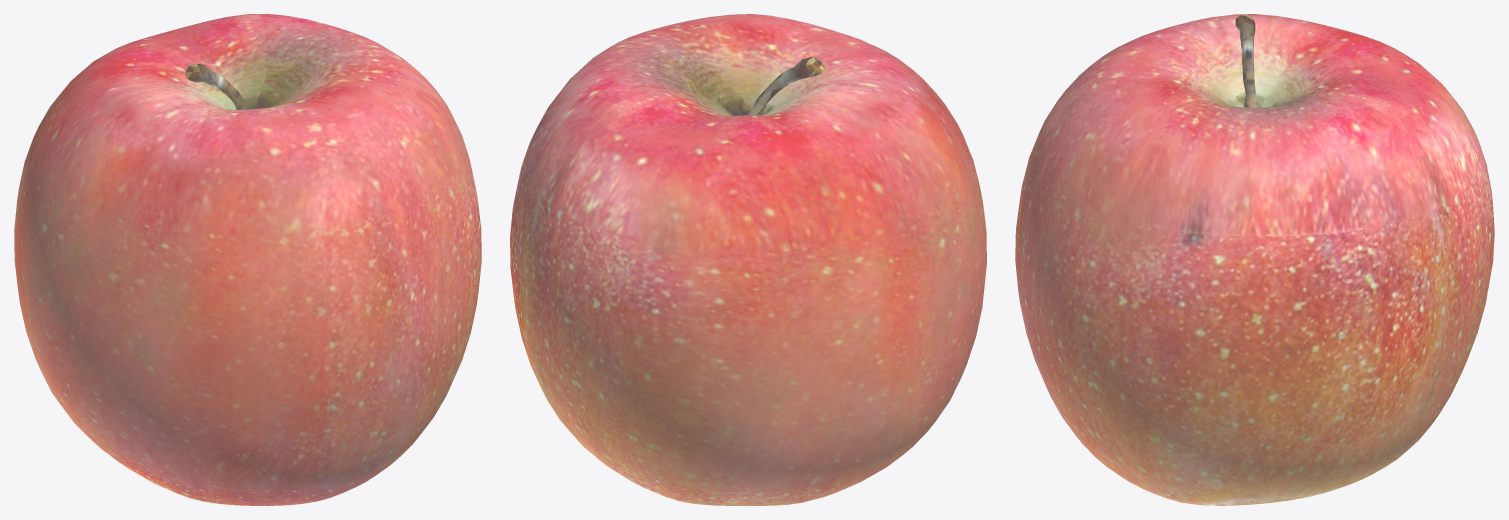
Rendered from apple.gltf.
3 views of the same model, side by side, from view 1: azimuth 30°, elevation 25°; view 2: azimuth 150°, elevation 25°; view 3: azimuth 270°, elevation 25° (orthographic). The views are drawn at different scales.
Parts seen in each view (by area): view 1: DTR9E6NZBST66K2M7D7LGWTMS; view 2: DTR9E6NZBST66K2M7D7LGWTMS; view 3: DTR9E6NZBST66K2M7D7LGWTMS.
Part boxes in pixels (x1,y1,x2,y2): DTR9E6NZBST66K2M7D7LGWTMS: (14,14,481,505); DTR9E6NZBST66K2M7D7LGWTMS: (510,14,986,505); DTR9E6NZBST66K2M7D7LGWTMS: (1015,14,1494,505).
Bounding box in the file's own units: 0.0745 × 0.0732 × 0.0753.
Materials: 1 (1 with a texture image).
